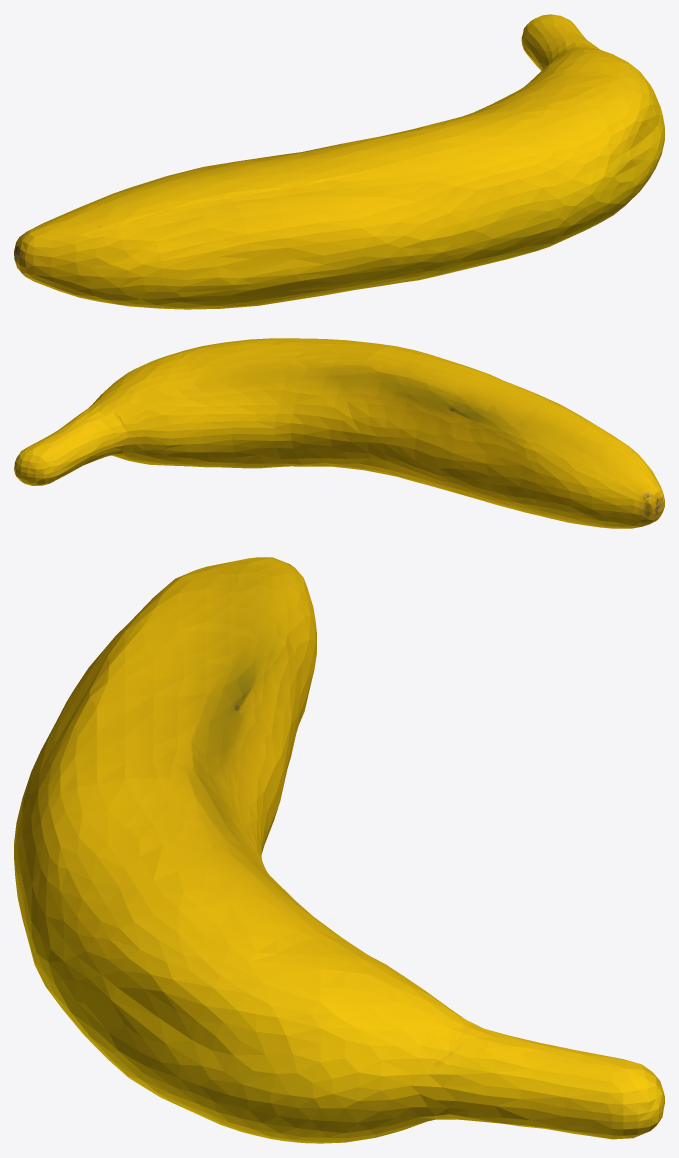
The model's file is banana_simple.obj.
3 views of the same model, one above another, from view 1: azimuth 30°, elevation 25°; view 2: azimuth 150°, elevation 25°; view 3: azimuth 270°, elevation 25° (orthographic). The views are drawn at different scales.
Size of the model in its own units: 1.9 by 0.3808 by 1.04.
1 material, 1 textured.
